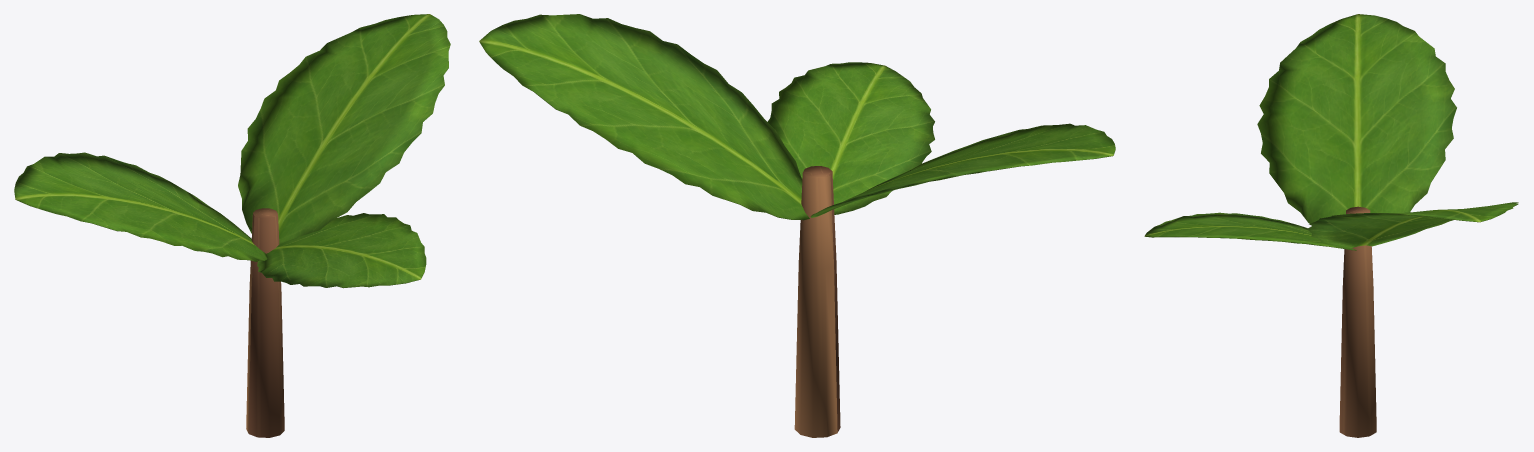
File: NP_Raspberry_Sprout_LOD1.fbx
3 views of the same model, side by side, from view 1: azimuth 30°, elevation 25°; view 2: azimuth 150°, elevation 25°; view 3: azimuth 270°, elevation 25° (orthographic). The views are drawn at different scales.
Visible parts, largest first — view 1: NP_Raspberry_Sprout; view 2: NP_Raspberry_Sprout; view 3: NP_Raspberry_Sprout.
Boxes of the visible parts, left/top/right/bottom form: NP_Raspberry_Sprout: left=14, top=14, right=450, bottom=437; NP_Raspberry_Sprout: left=479, top=14, right=1115, bottom=437; NP_Raspberry_Sprout: left=1144, top=14, right=1518, bottom=437.
Size of the model in its own units: 39.5 by 25.3 by 26.86.
